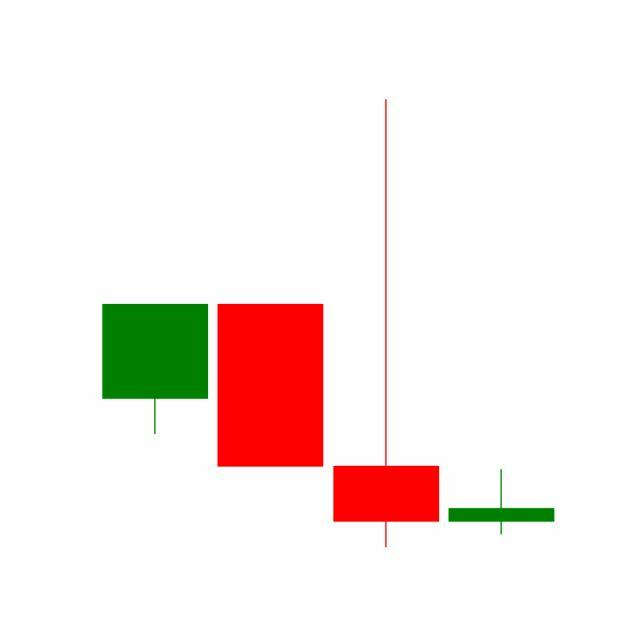Gravestone Doji: (444, 469, 560, 537)
